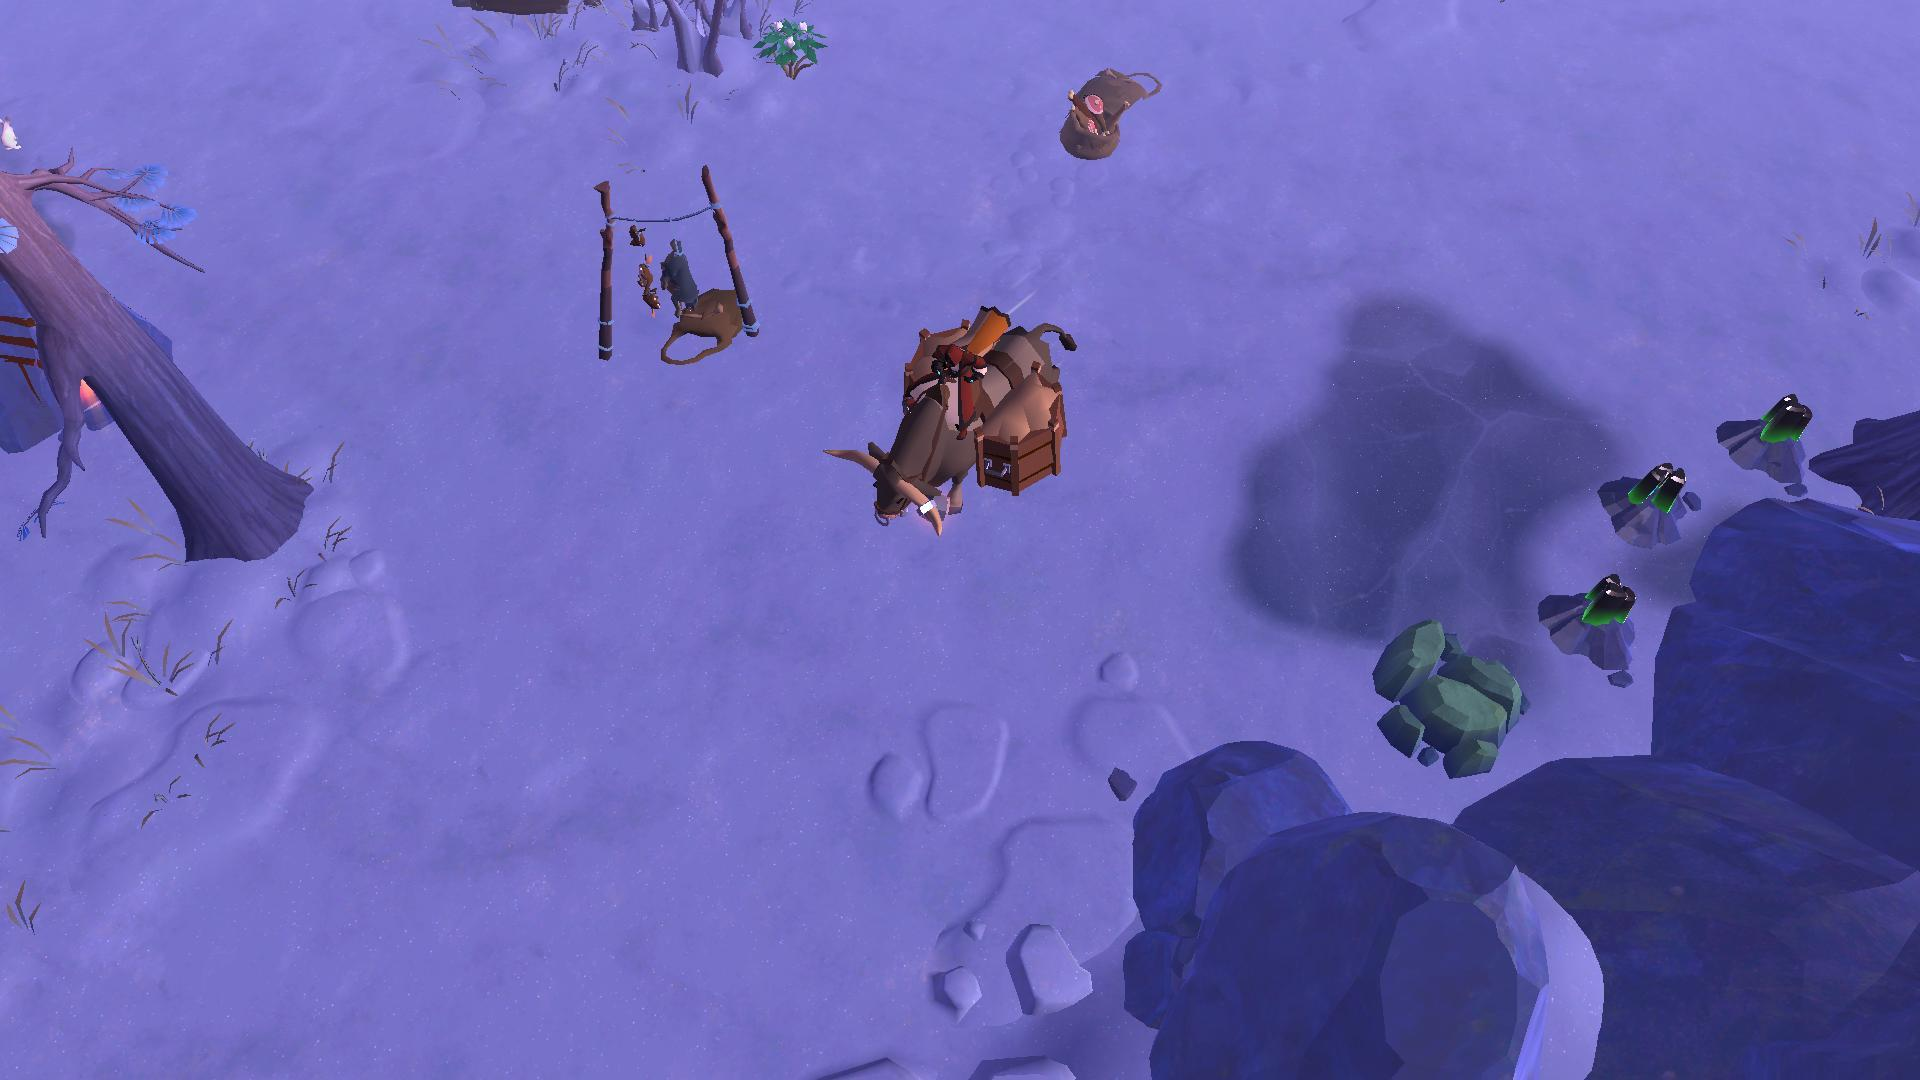fiber_t3: (754, 12, 828, 83)
ore_t3: (1578, 564, 1642, 633), (1630, 447, 1685, 516), (1760, 386, 1815, 451)
rock_t3: (1364, 601, 1532, 787)
